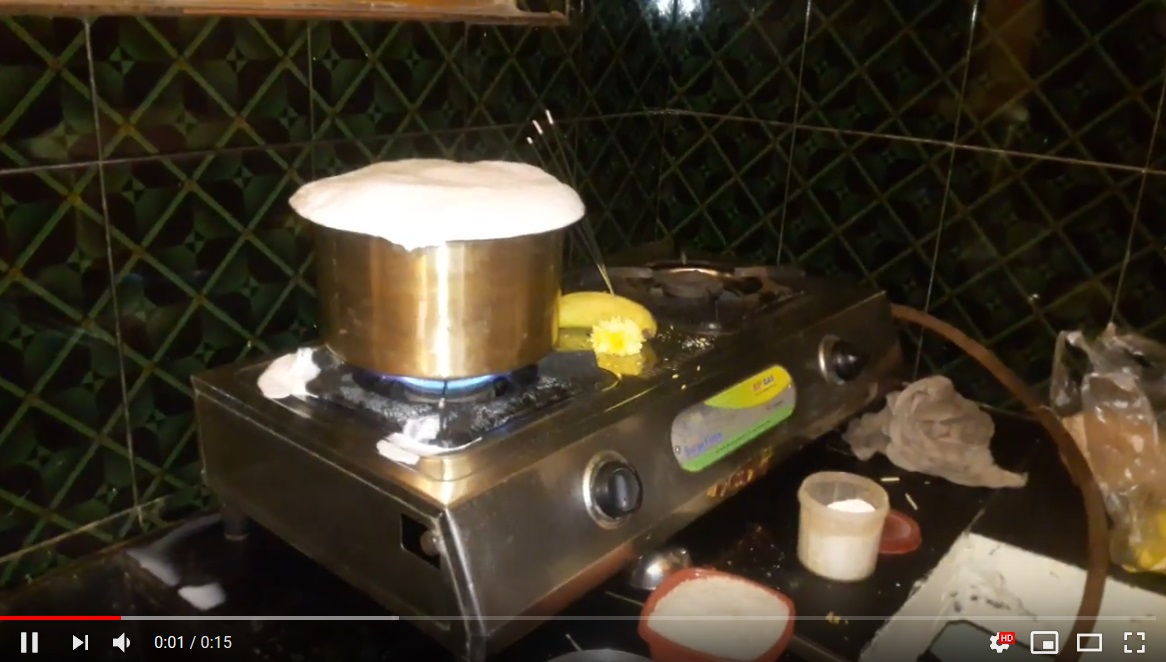Boiled: (276, 141, 587, 431)
